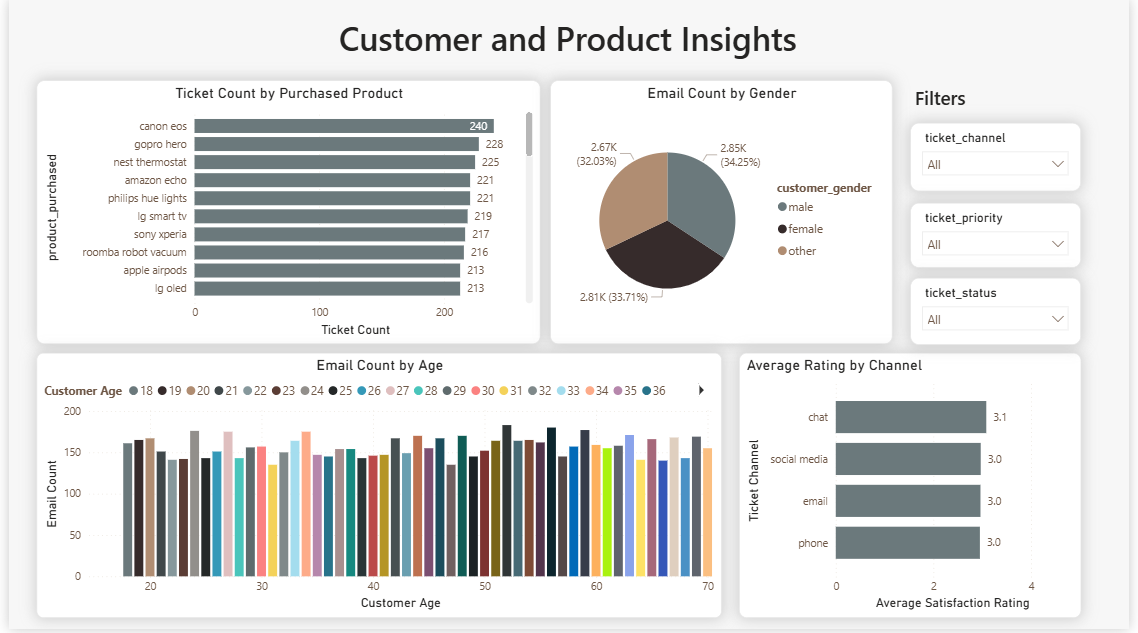

Layout of this report page (visuals, bound fields, positions):
{"tool":"powerbi","page":{"name":"Customer & Product Insights","canvas":[1280,720],"ordinal":2},"visuals":[{"type":"textbox","box":[343.1,13.7,591.4,68.6],"z":0},{"type":"barChart","title":"Ticket Count by Purchased Product","fields":{"Category":["warehouse fact_support_tickets.product_purchased"],"Y":["CountNonNull(warehouse fact_support_tickets.ticket_id)"]},"box":[31.6,93.3,576.3,301.9],"z":1000},{"type":"pieChart","title":"Email Count by Gender","fields":{"Category":["warehouse dim_customer.customer_gender"],"Y":["CountNonNull(warehouse dim_customer.customer_email)"]},"box":[618.9,93.3,391.1,301.9],"z":2000},{"type":"columnChart","title":"Email Count by Age","fields":{"Category":["warehouse dim_customer.customer_age"],"Y":["CountNonNull(warehouse dim_customer.customer_email)"],"Series":["warehouse dim_customer.customer_age"]},"box":[31.6,404.8,783.5,303.3],"z":3000},{"type":"barChart","title":"Average Rating by Channel","fields":{"Category":["warehouse fact_support_tickets.ticket_channel"],"Y":["Avg(warehouse fact_support_tickets.customer_satisfaction_rating)"]},"box":[834.3,404.8,391.1,303.3],"z":4000},{"type":"textbox","box":[1030.5,93.3,86.4,48],"z":5000},{"type":"slicer","fields":{"Values":["warehouse fact_support_tickets.ticket_channel"]},"box":[1030.5,141.3,194.9,78.2],"z":6000},{"type":"slicer","fields":{"Values":["warehouse fact_support_tickets.ticket_priority"]},"box":[1030.5,233.3,194.9,74.1],"z":7000},{"type":"slicer","fields":{"Values":["warehouse fact_support_tickets.ticket_status"]},"box":[1030.5,318.4,194.9,76.8],"z":8000}]}

Visuals, with their boxes in screenshot pixels (x1, y1, x2, y2), scaled from the page's 1280x720 canvas onto the 1138x633 screenshot:
textbox: 305, 12, 831, 72
"Ticket Count by Purchased Product" barChart: 28, 82, 540, 347
"Email Count by Gender" pieChart: 550, 82, 898, 347
"Email Count by Age" columnChart: 28, 356, 725, 623
"Average Rating by Channel" barChart: 742, 356, 1089, 623
textbox: 916, 82, 993, 124
slicer - warehouse fact_support_tickets.ticket_channel: 916, 124, 1089, 193
slicer - warehouse fact_support_tickets.ticket_priority: 916, 205, 1089, 270
slicer - warehouse fact_support_tickets.ticket_status: 916, 280, 1089, 347
